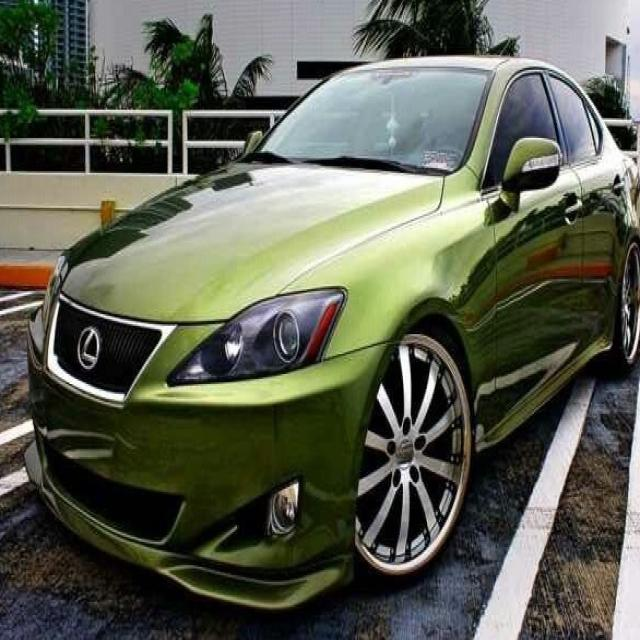green: (34, 46, 640, 640)
